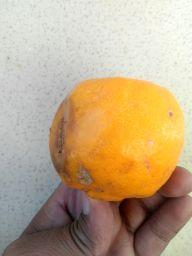Unripe: (51, 79, 185, 201)
